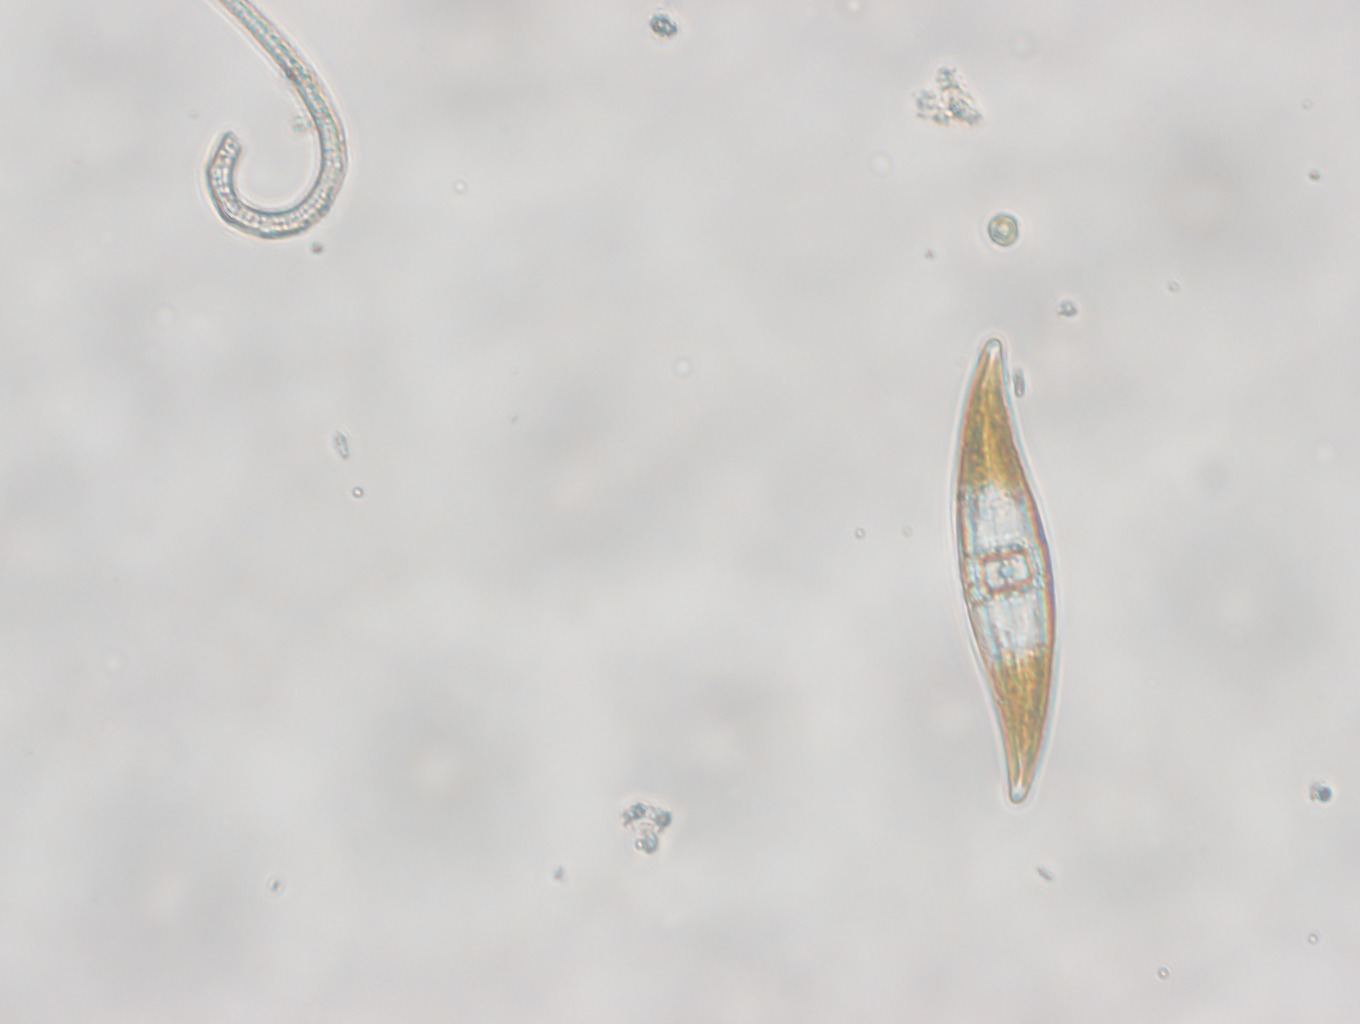pleurosigma pelagicum: (936, 317, 1070, 807)
